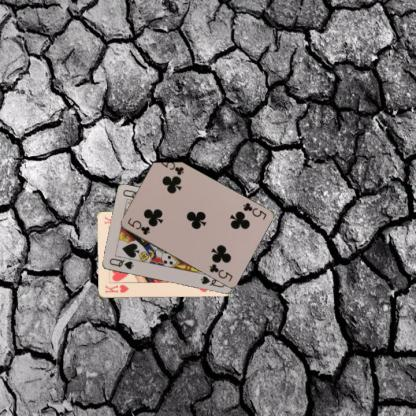5c: (124, 215, 152, 236), (240, 200, 268, 221)
Kh: (102, 283, 130, 294)
Qs: (106, 256, 135, 270)
